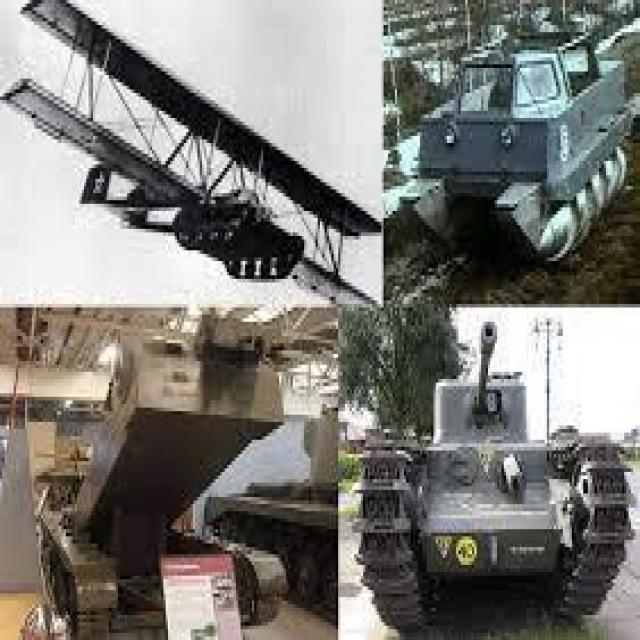Tanks: (354, 318, 631, 629)
